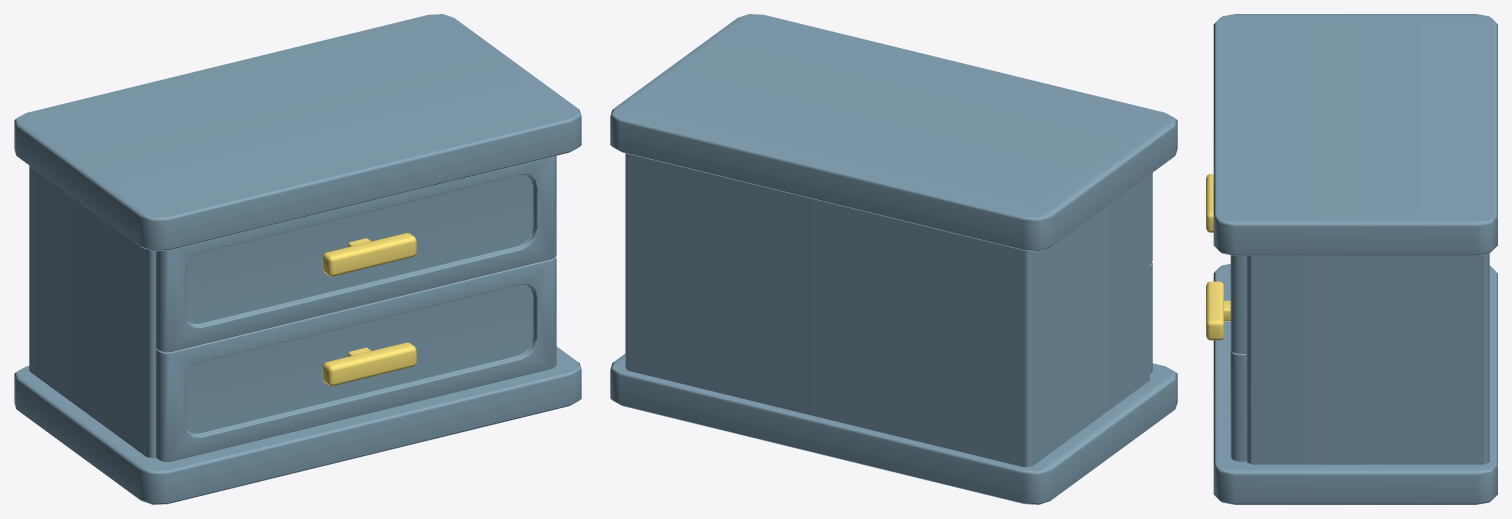
File: Drawer_blue_1.glb
The picture shows the model from 3 angles, left to right: view 1: azimuth 30°, elevation 25°; view 2: azimuth 150°, elevation 25°; view 3: azimuth 270°, elevation 25°; orthographic projection.
Visible parts, largest first — view 1: Cabinet_19; view 2: Cabinet_19; view 3: Cabinet_19.
Part boxes in pixels (x1=…): Cabinet_19: x1=14, y1=14, x2=581, y2=504; Cabinet_19: x1=610, y1=14, x2=1177, y2=504; Cabinet_19: x1=1206, y1=14, x2=1497, y2=504.
Bounding box in the file's own units: 1.26 × 0.7843 × 0.734.
Materials: 1 (1 with a texture image).
